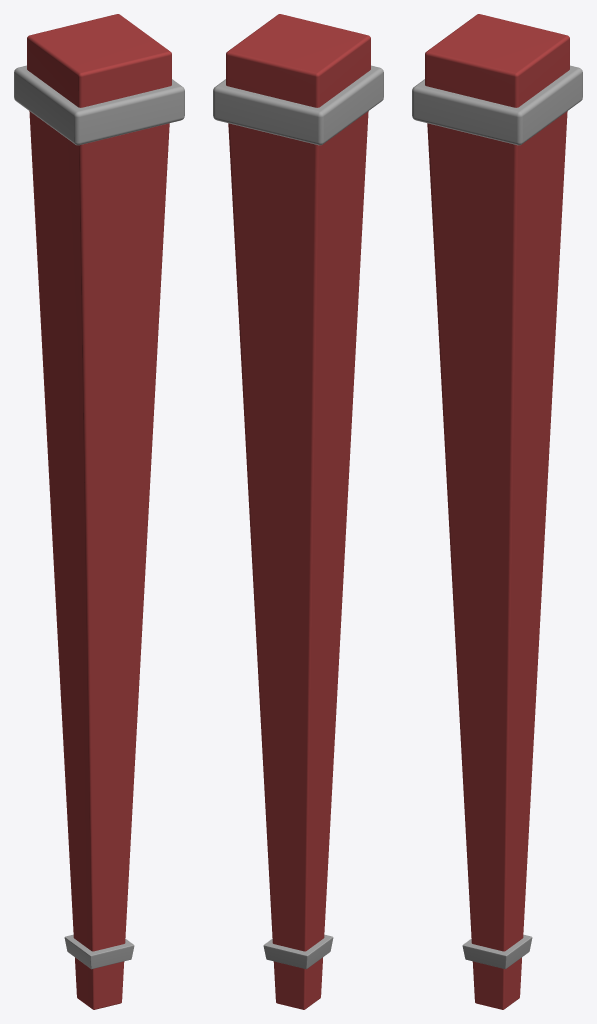
Rendered from Platform_Stylized_04.fbx.
The picture shows the model from 3 angles, left to right: view 1: azimuth 30°, elevation 25°; view 2: azimuth 150°, elevation 25°; view 3: azimuth 330°, elevation 25°; orthographic projection.
Visible parts, largest first — view 1: Platform_Base, Platform_Emissive, Platform_Emissive2; view 2: Platform_Base, Platform_Emissive, Platform_Emissive2; view 3: Platform_Base, Platform_Emissive, Platform_Emissive2.
Boxes of the visible parts, <box> form: Platform_Base: <box>27,14,171,1009</box>; Platform_Emissive: <box>14,65,184,145</box>; Platform_Emissive2: <box>64,934,134,969</box>; Platform_Base: <box>226,14,370,1009</box>; Platform_Emissive: <box>213,65,383,145</box>; Platform_Emissive2: <box>263,934,333,969</box>; Platform_Base: <box>425,14,569,1009</box>; Platform_Emissive: <box>412,65,582,145</box>; Platform_Emissive2: <box>462,934,532,969</box>.
Size of the model in its own units: 137 by 1135 by 137.
